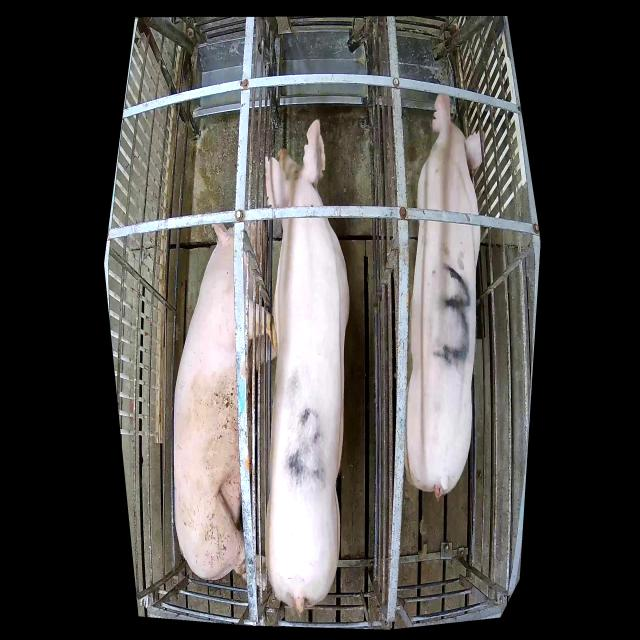pig: (264, 118, 349, 615), (174, 210, 272, 592), (404, 93, 482, 494)
